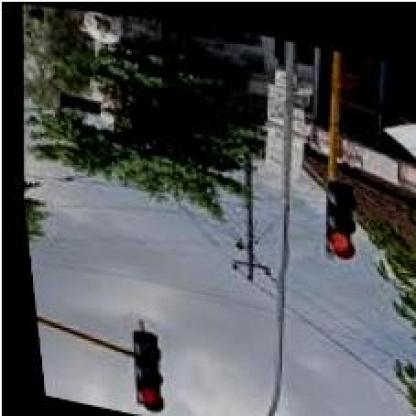red: (314, 172, 360, 257), (116, 324, 160, 412)
